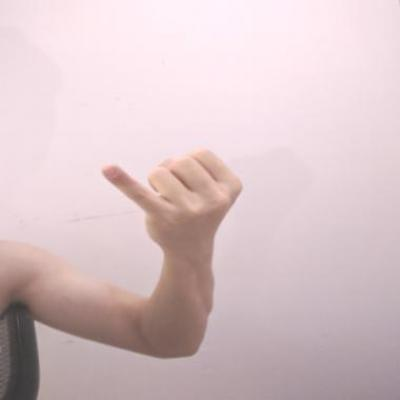hand: (90, 138, 251, 258)
